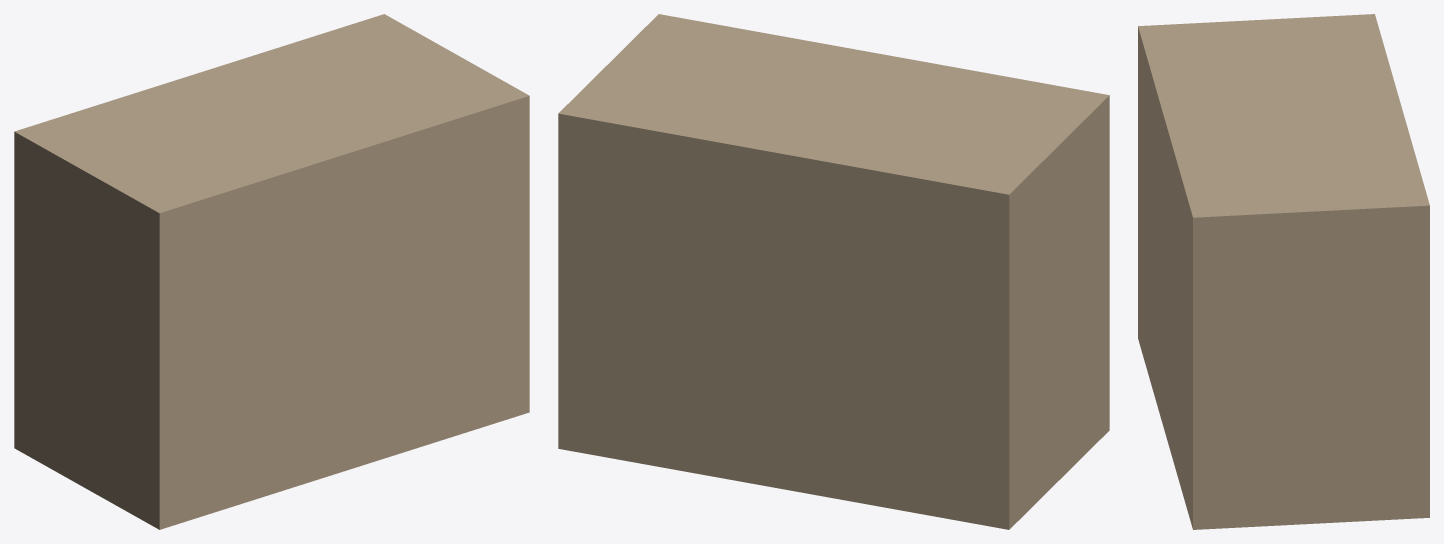
The model's file is bld_101562213.dae.
The picture shows the model from 3 angles, left to right: view 1: azimuth 30°, elevation 25°; view 2: azimuth 150°, elevation 25°; view 3: azimuth 270°, elevation 25°; orthographic projection. The views are drawn at different scales.
Visible parts, largest first — view 1: bld_101562213; view 2: bld_101562213; view 3: bld_101562213.
Part boxes in pixels (left/top/right/bottom): bld_101562213: left=14, top=14, right=529, bottom=529; bld_101562213: left=558, top=14, right=1109, bottom=529; bld_101562213: left=1138, top=14, right=1429, bottom=529.
Bounding box in the file's own units: 11.19 × 6.78 × 8.
